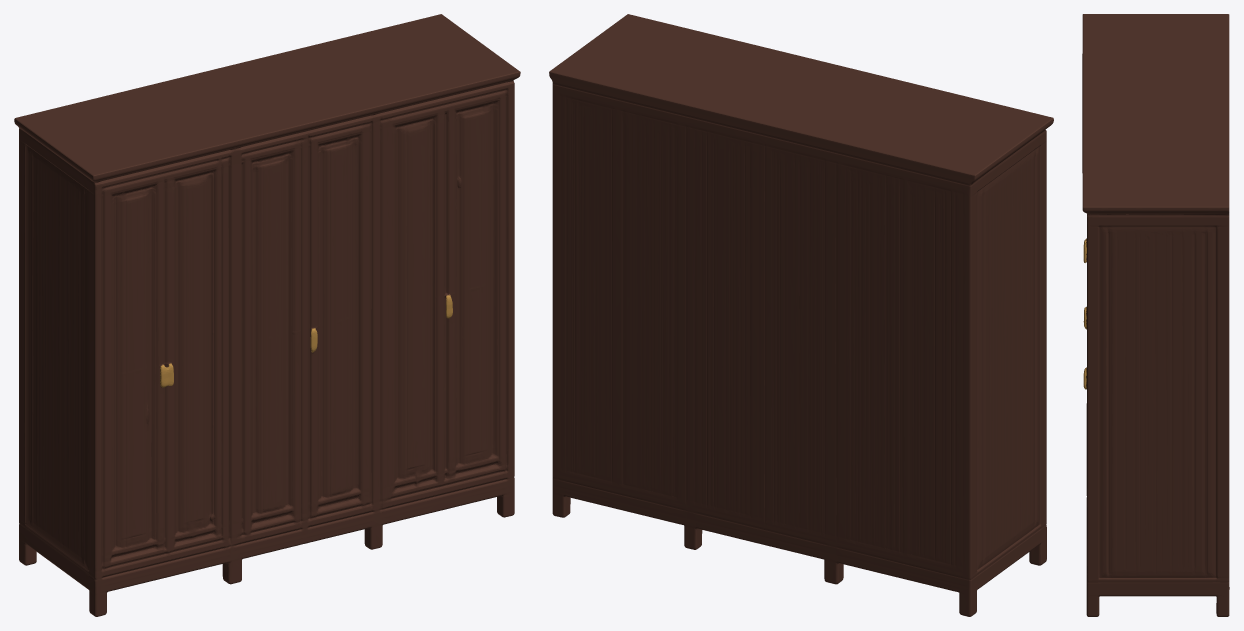
File: wardrobe_semantic.glb
3 views of the same model, side by side, from view 1: azimuth 30°, elevation 25°; view 2: azimuth 150°, elevation 25°; view 3: azimuth 270°, elevation 25° (orthographic). The views are drawn at different scales.
Parts seen in each view (by area): view 1: RoomOne_Wardrobe; view 2: RoomOne_Wardrobe; view 3: RoomOne_Wardrobe.
Part boxes in pixels (x1,y1,x2,y2): RoomOne_Wardrobe: (14, 14, 520, 616); RoomOne_Wardrobe: (549, 14, 1053, 616); RoomOne_Wardrobe: (1082, 14, 1229, 616).
Bounding box in the file's own units: 1.9 × 1.89 × 0.6113.
